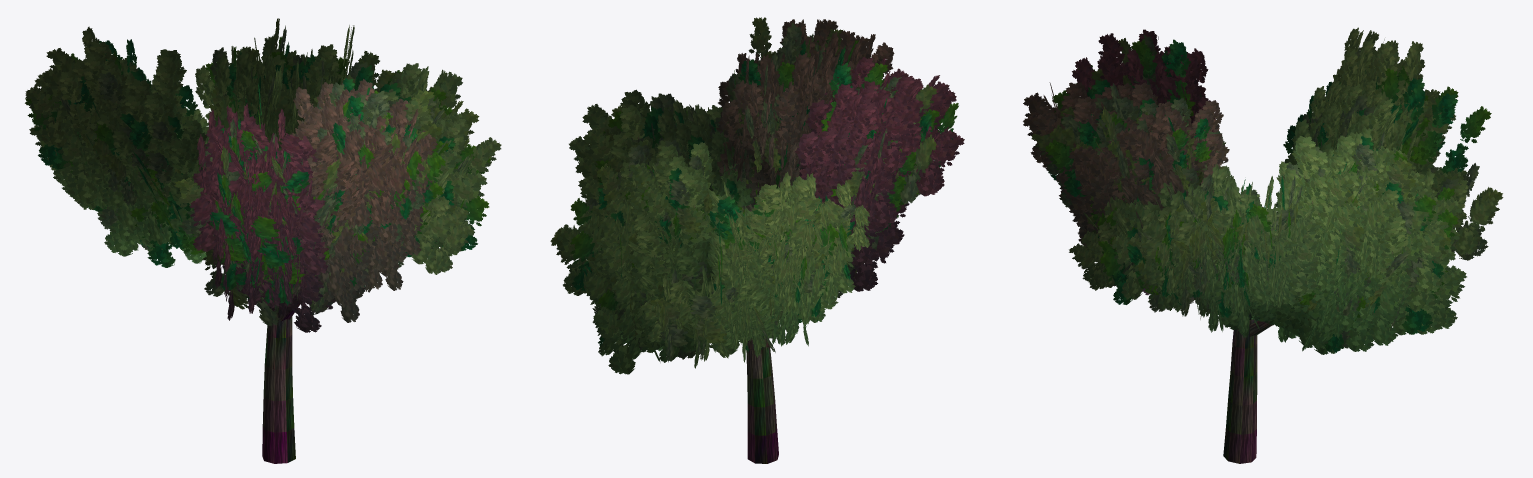
Rendered from nat_oak_b_LOD0.glb.
3 renders of one model, left to right at view 1: azimuth 30°, elevation 25°; view 2: azimuth 150°, elevation 25°; view 3: azimuth 270°, elevation 25°, orthographic. The views are drawn at different scales.
Parts seen in each view (by area): view 1: nat_oak_b_LOD0; view 2: nat_oak_b_LOD0; view 3: nat_oak_b_LOD0.
Boxes of the visible parts, x1,y1,x2,y2 form: nat_oak_b_LOD0: (25,18,501,463); nat_oak_b_LOD0: (550,17,964,463); nat_oak_b_LOD0: (1023,27,1503,463).
Size of the model in its own units: 6.09 by 6.25 by 7.21.
2 materials, 2 textured.
